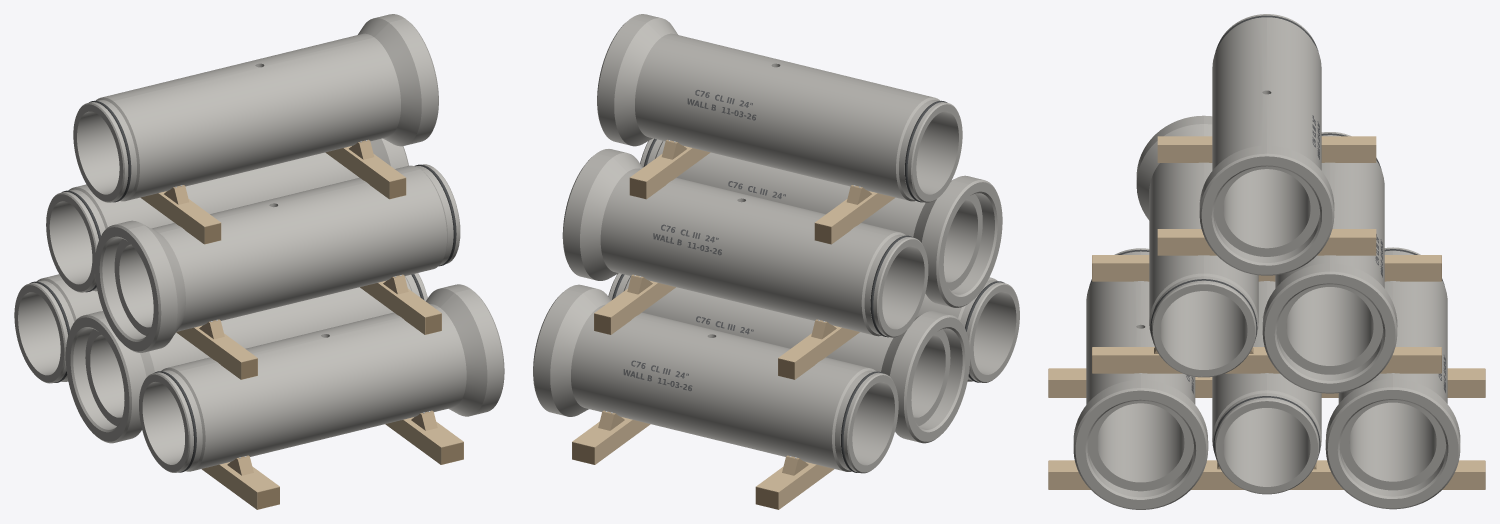
File: Concrete_Pipe_Stack_24in.glb
The picture shows the model from 3 angles, left to right: view 1: azimuth 30°, elevation 25°; view 2: azimuth 150°, elevation 25°; view 3: azimuth 270°, elevation 25°; orthographic projection. The views are drawn at different scales.
Parts seen in each view (by area): view 1: pipe_1a, skids, wedge_chocks, timber_end_grain, gasket_1a; view 2: pipe_1a, skids, wedge_chocks, timber_end_grain, marking_1a, gasket_1a; view 3: pipe_1a, skids, gasket_1a, marking_1a.
Part boxes in pixels (box(x1,y1,x2,y2)): pipe_1a: box(14, 14, 504, 472); skids: box(140, 146, 463, 509); wedge_chocks: box(164, 139, 437, 475); timber_end_grain: box(204, 178, 463, 509); gasket_1a: box(29, 100, 456, 472); pipe_1a: box(533, 14, 1019, 473); skids: box(572, 146, 895, 509); wedge_chocks: box(598, 139, 871, 475); timber_end_grain: box(572, 178, 831, 509); marking_1a: box(623, 90, 785, 391); gasket_1a: box(612, 100, 1004, 472); pipe_1a: box(1073, 14, 1460, 509); skids: box(1048, 136, 1485, 489); gasket_1a: box(1089, 15, 1444, 458); marking_1a: box(1186, 115, 1445, 393).
Bounding box in the file's own units: 52.13 × 55.5 × 61.02.
